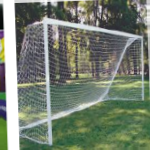goals: (17, 14, 146, 146)
